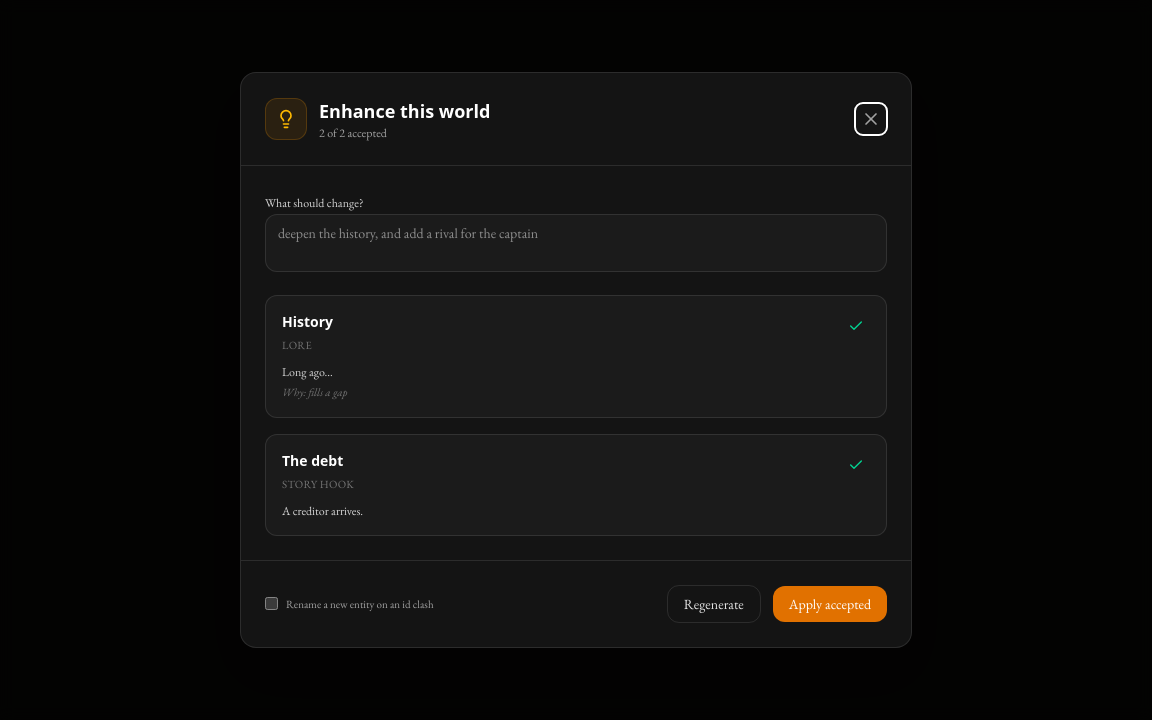
WorldEnhanceDialog › surfaces a refusal
Step 1. Click the button "Apply accepted" → (830, 604), box [773,586,887,622]
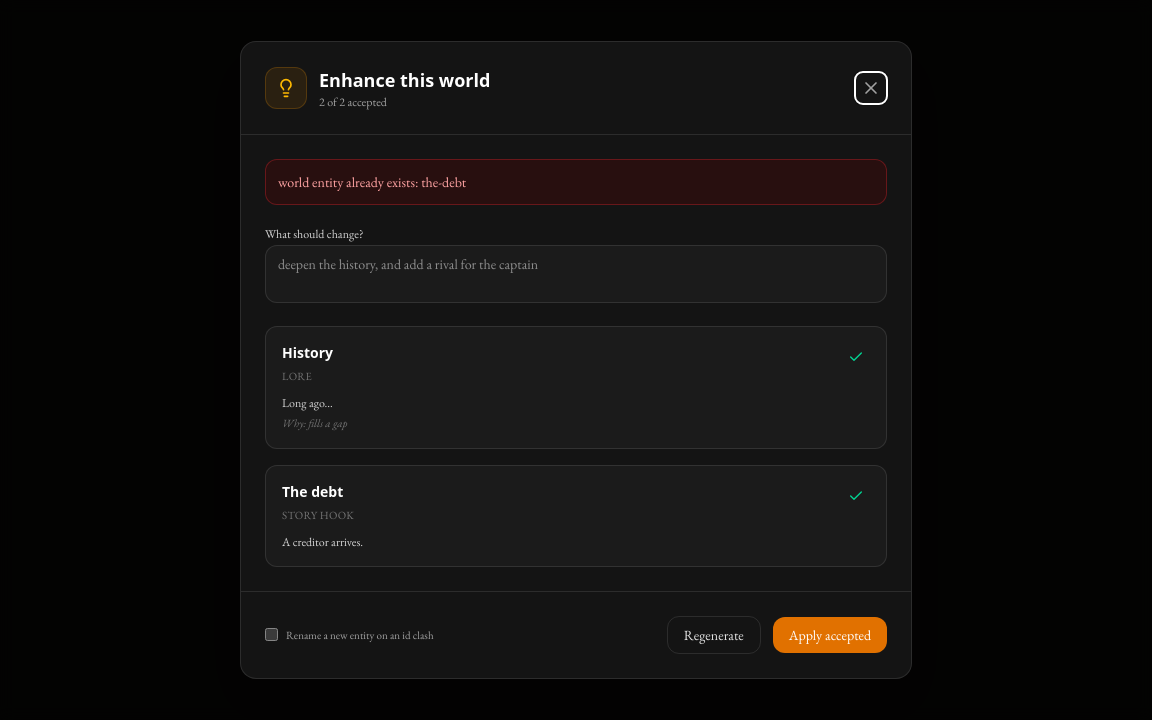
Check: the text "world entity already exists: the-debt" is shown, box [265,159,887,205]
